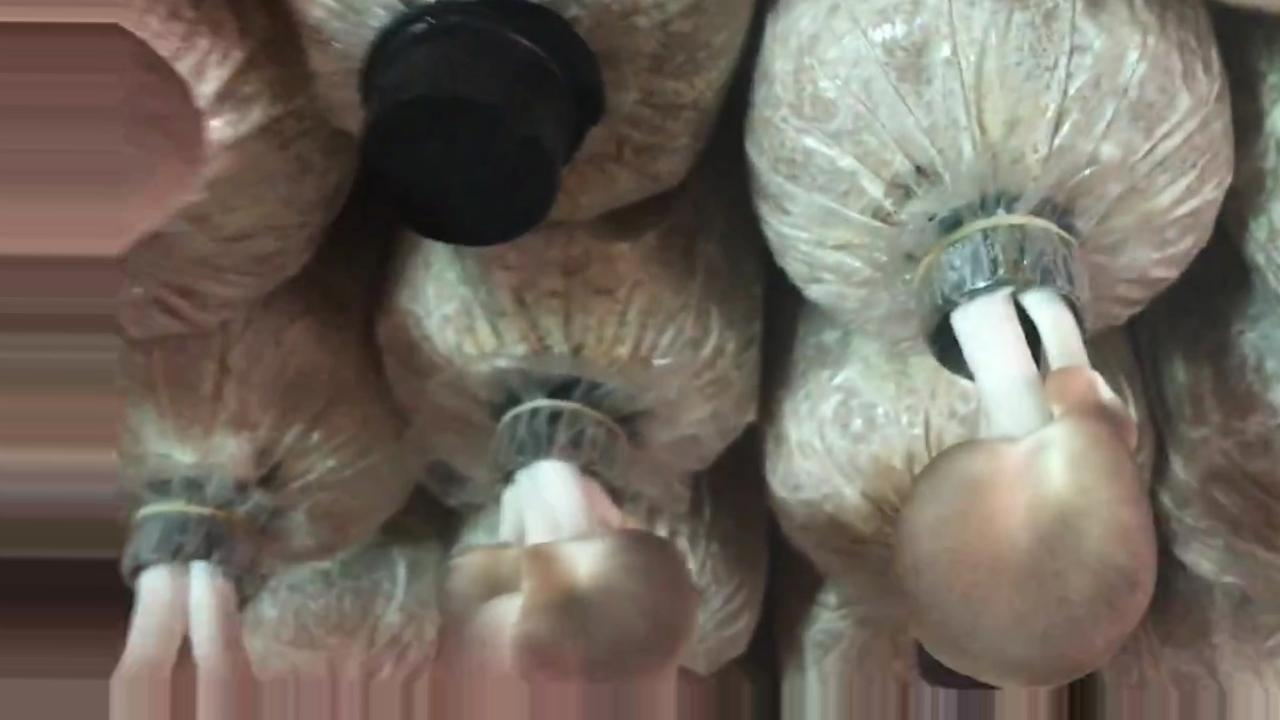nam: (896, 223, 1156, 694), (460, 405, 699, 688)
